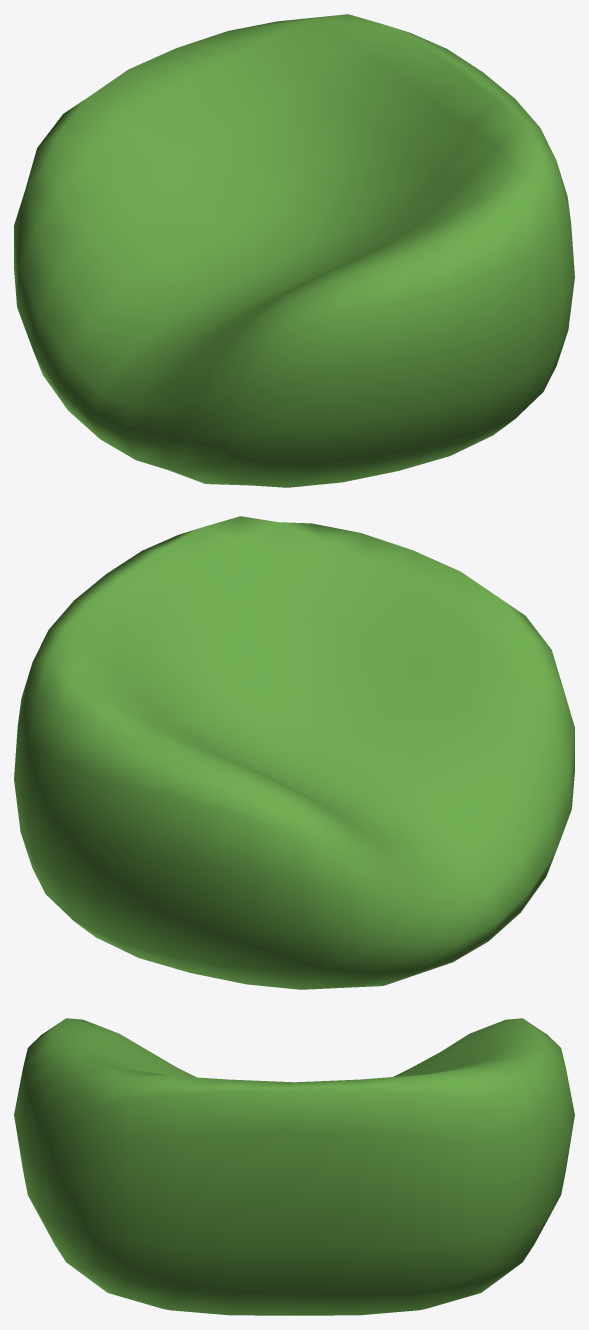
Rendered from beanbag_01_green.fbx.
3 views of the same model, one above another, from view 1: azimuth 30°, elevation 25°; view 2: azimuth 150°, elevation 25°; view 3: azimuth 270°, elevation 25° (orthographic). The views are drawn at different scales.
Parts seen in each view (by area): view 1: beanbag_01_green; view 2: beanbag_01_green; view 3: beanbag_01_green.
Boxes of the visible parts, x1,y1,x2,y2 form: beanbag_01_green: (14, 14, 574, 487); beanbag_01_green: (14, 516, 574, 989); beanbag_01_green: (14, 1018, 574, 1315).
Bounding box in the file's own units: 84.93 × 60.58 × 112.
1 material, 1 textured.
